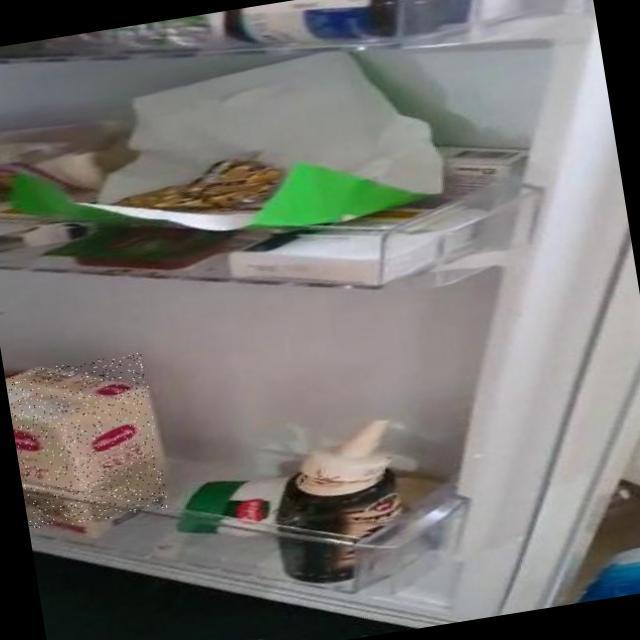milk: (6, 352, 169, 531)
